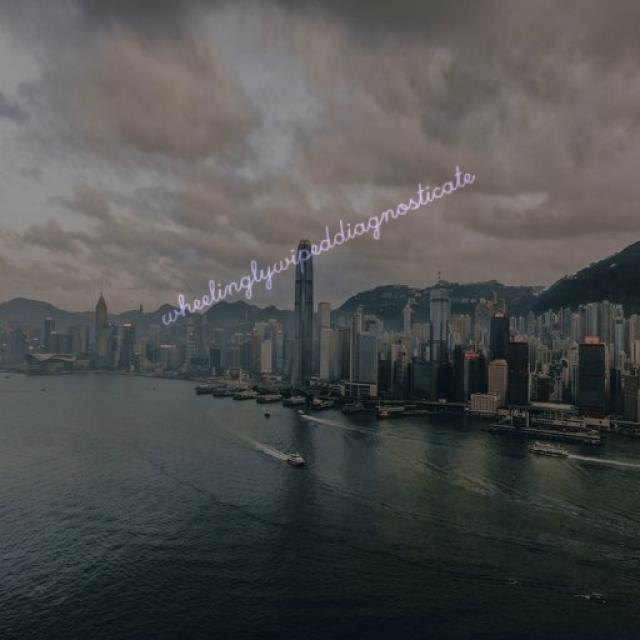watermark: (157, 156, 476, 329)
